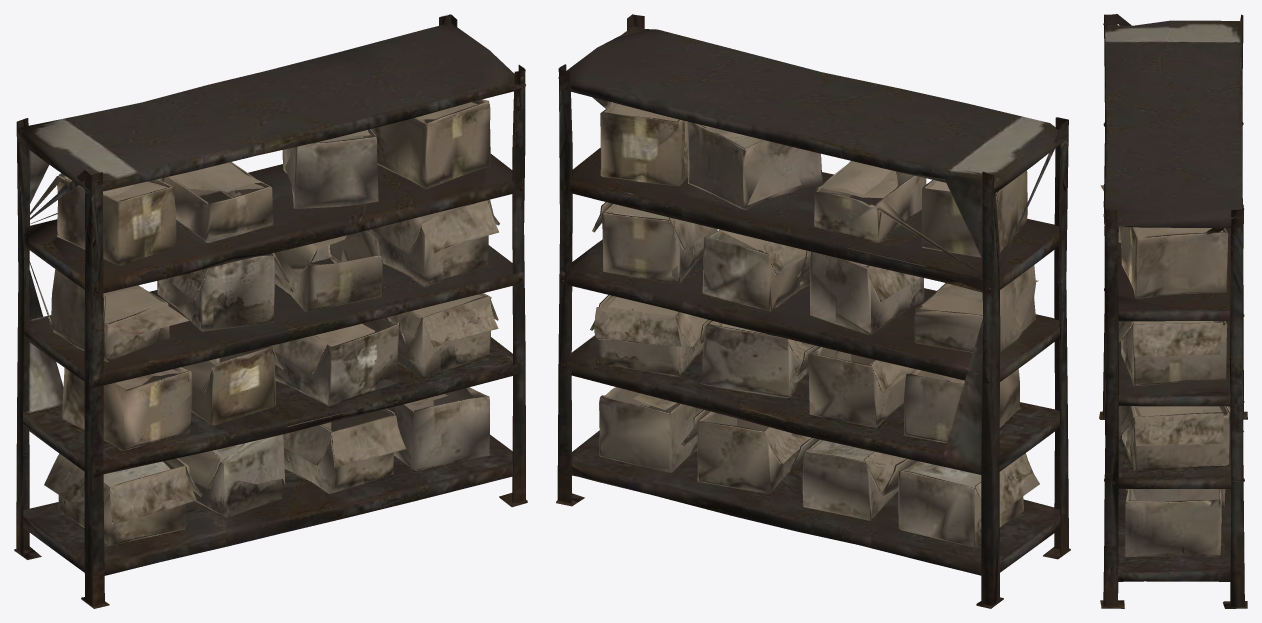
Rendered from shelf.glb.
3 views of the same model, side by side, from view 1: azimuth 30°, elevation 25°; view 2: azimuth 150°, elevation 25°; view 3: azimuth 270°, elevation 25° (orthographic). The views are drawn at different scales.
Size of the model in its own units: 1 by 0.9541 by 0.3218.
Materials: 1 (1 with a texture image).
